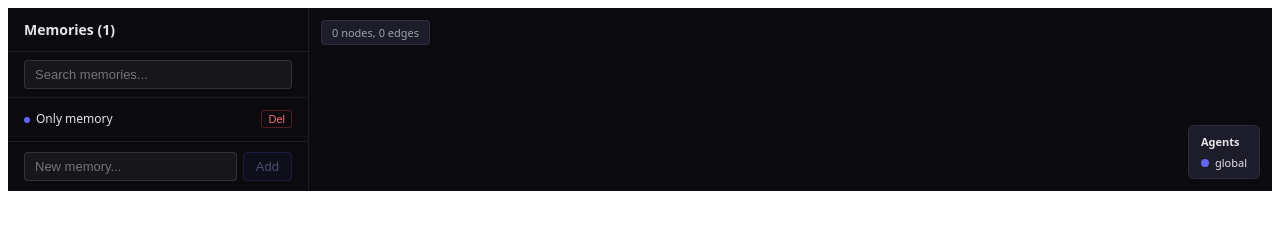
Test case: MemoryGraph › shows "No matching memories" when filter has no results
Type "nonexistent" into the field labelled "Search memories".
click(158, 74); type("nonexistent")  # box [24,60,292,89]
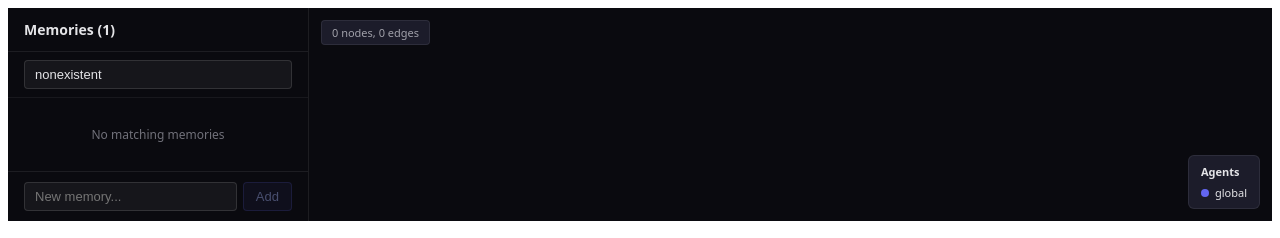
Now the text "No matching memories" is shown, box [92,126,224,143]
